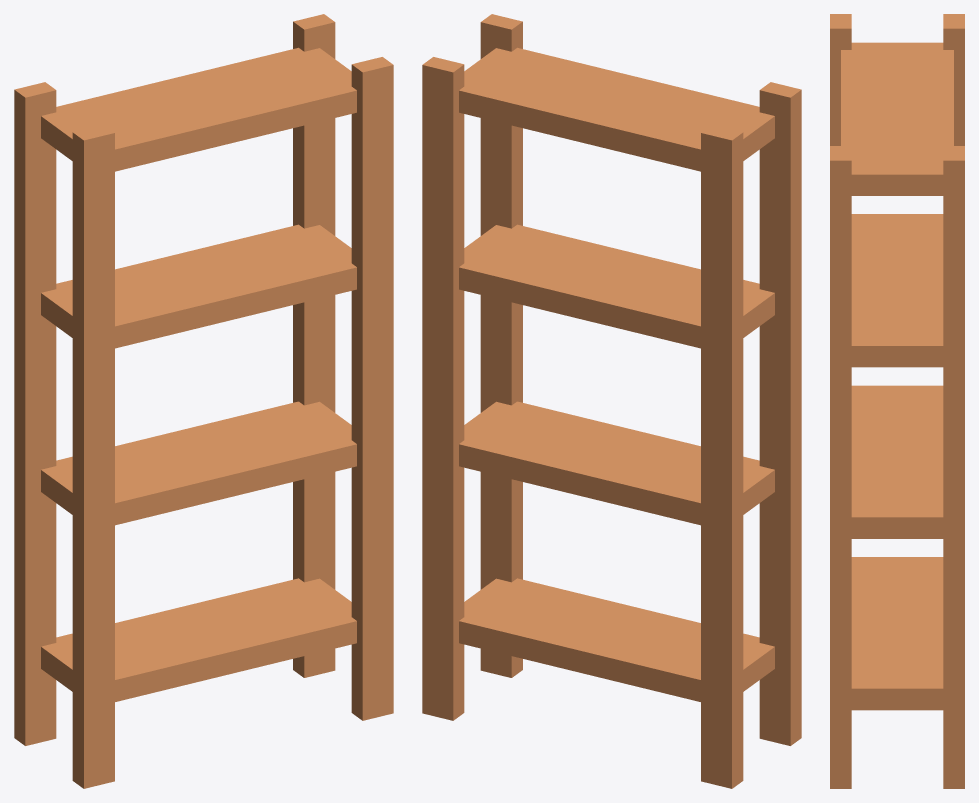
Rendered from furn-shelf-open-5tier-wood.glb.
3 views of the same model, side by side, from view 1: azimuth 30°, elevation 25°; view 2: azimuth 150°, elevation 25°; view 3: azimuth 270°, elevation 25° (orthographic). The views are drawn at different scales.
Parts seen in each view (by area): view 1: bookcaseOpen; view 2: bookcaseOpen; view 3: bookcaseOpen.
Boxes of the visible parts, x1,y1,x2,y2 form: bookcaseOpen: (14, 14, 393, 788); bookcaseOpen: (422, 14, 801, 788); bookcaseOpen: (830, 14, 964, 788).
Size of the model in its own units: 0.9 by 1.8 by 0.35.
